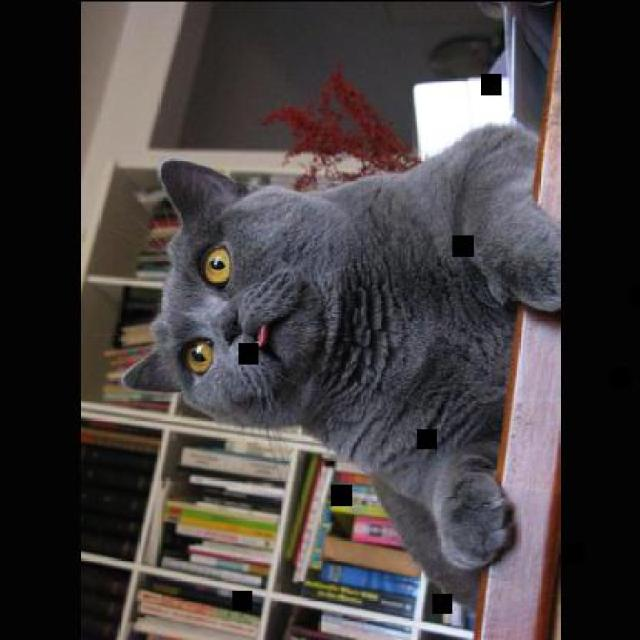unauthorized: (120, 115, 560, 608)
